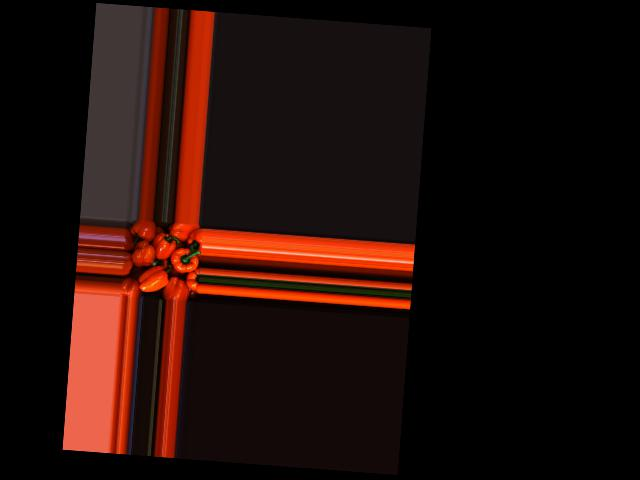bell_pepper: (122, 226, 141, 257)
